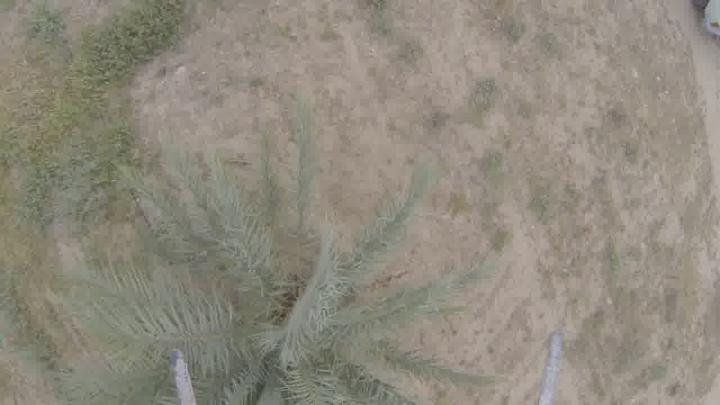Date-Palm-Crown: (150, 237, 384, 405)
